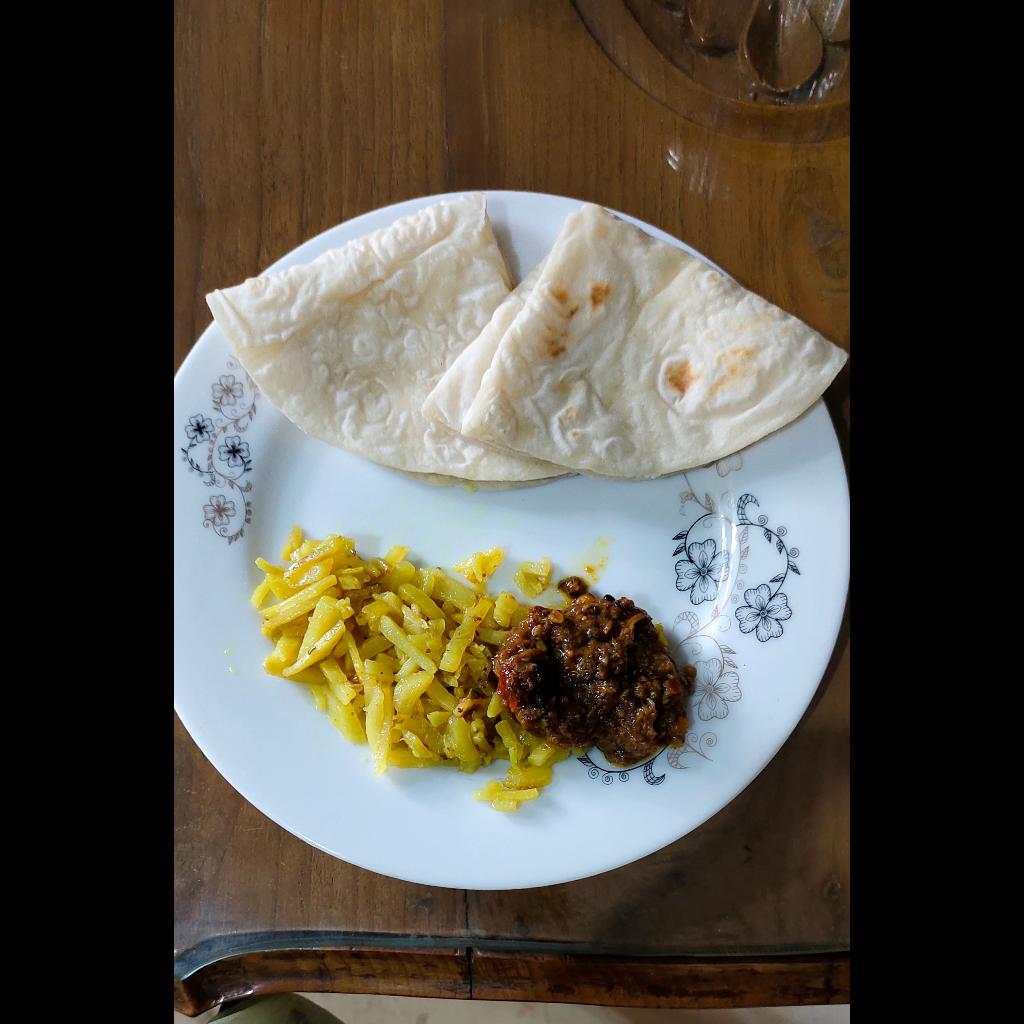beef: (492, 577, 702, 772)
potato: (251, 518, 573, 809)
ruti: (207, 191, 850, 496)
